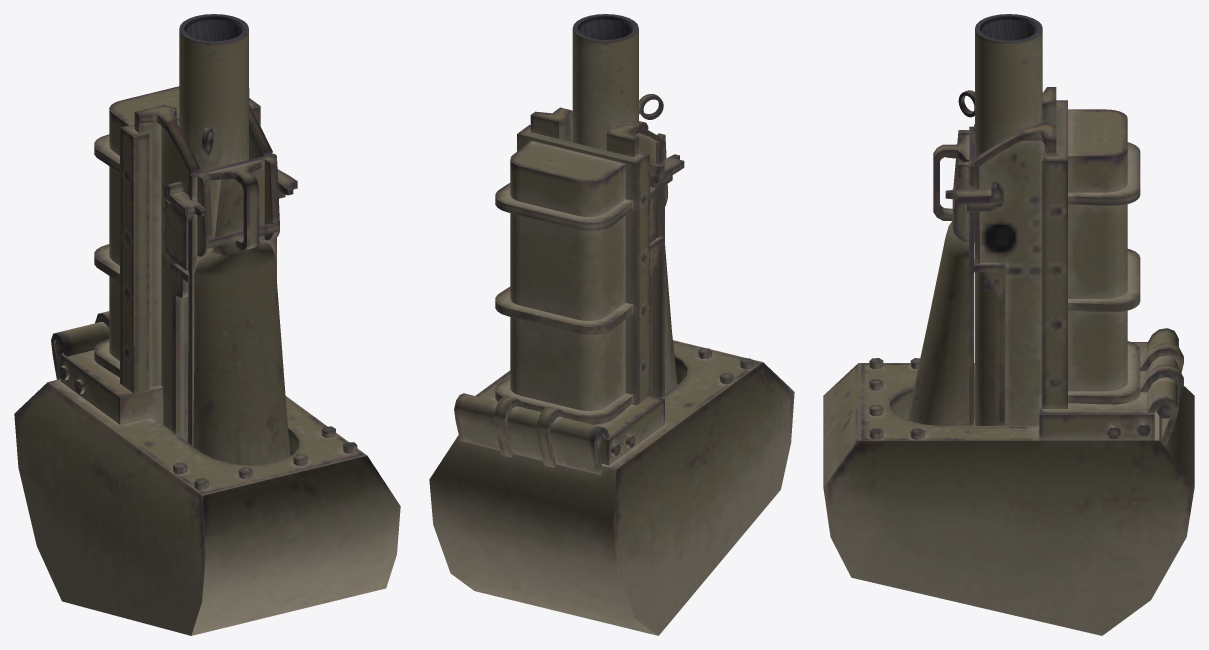
Rendered from Gun_01.glb.
3 views of the same model, side by side, from view 1: azimuth 30°, elevation 25°; view 2: azimuth 150°, elevation 25°; view 3: azimuth 270°, elevation 25° (orthographic). The views are drawn at different scales.
Visible parts, largest first — view 1: set_0_group_0; view 2: set_0_group_0; view 3: set_0_group_0.
Boxes of the visible parts, x1=… form: set_0_group_0: x1=14, y1=14, x2=400, y2=635; set_0_group_0: x1=429, y1=14, x2=794, y2=635; set_0_group_0: x1=823, y1=14, x2=1194, y2=635.
Bounding box in the file's own units: 0.3518 × 1 × 0.5985.
Materials: 1 (1 with a texture image).
